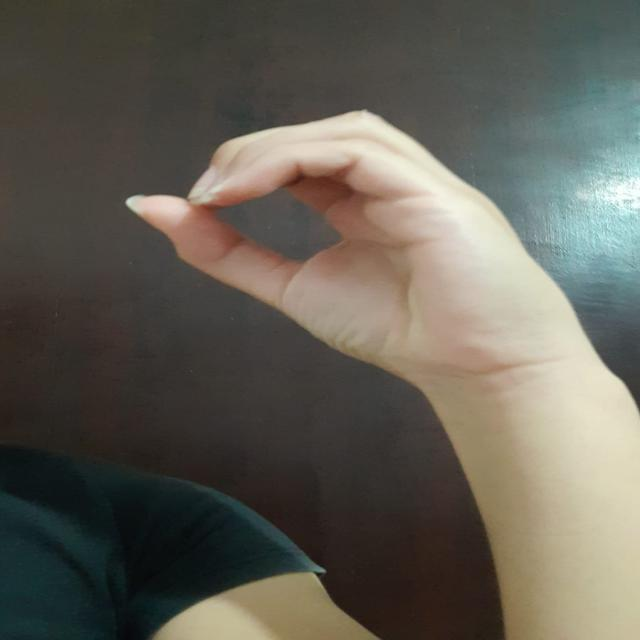O: (114, 98, 587, 364)
